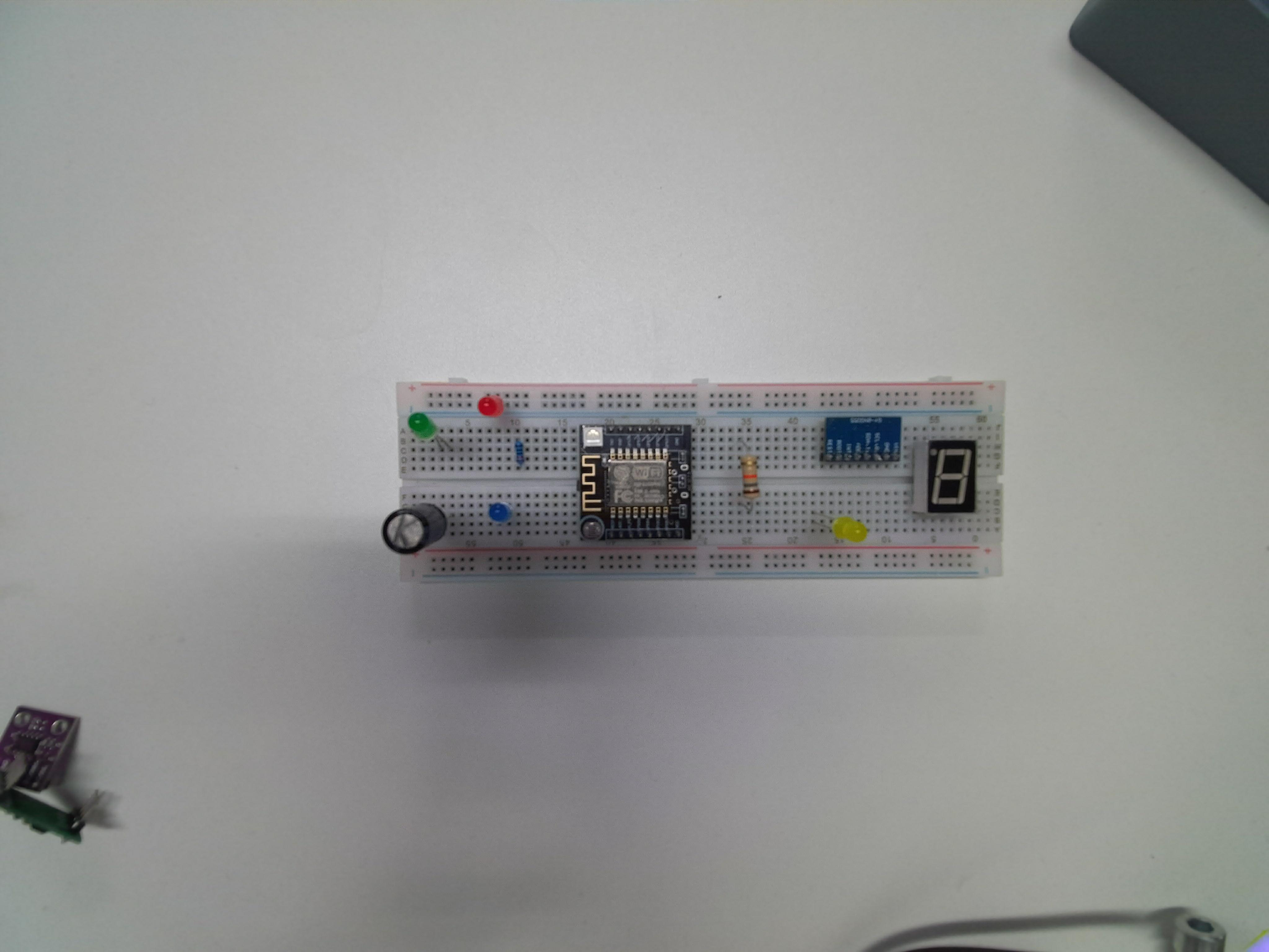base: (388, 380, 1006, 586)
blue-board: (822, 412, 902, 467)
blue-led: (490, 502, 510, 524)
capacitor: (380, 503, 445, 555)
digit-board: (921, 436, 978, 514)
esp: (576, 421, 696, 542)
green-led: (406, 412, 440, 446)
red-led: (476, 393, 505, 419)
resistor-big: (736, 452, 764, 503), (832, 516, 867, 545)
resistor-small: (513, 437, 527, 467)
yellow-led: (832, 515, 867, 545)
